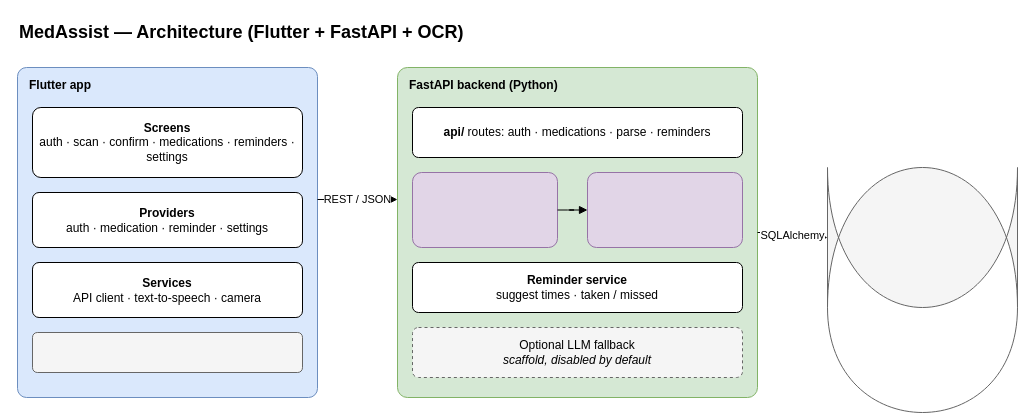
Some shapes in this 1035 by 415 pixel diagram are drawn without their labels. Here are the shapes that lost their labels. From the top down, the centre of each, then its label:
the point at 485,210: OCR service EasyOCR / PaddleOCR
the point at 664,210: Deterministic parser dosage · frequency timing · risk flags
the point at 922,237: MySQL (XAMPP) users · user_settings medications reminders · parse_logs
the point at 167,352: API base URL via --dart-define
